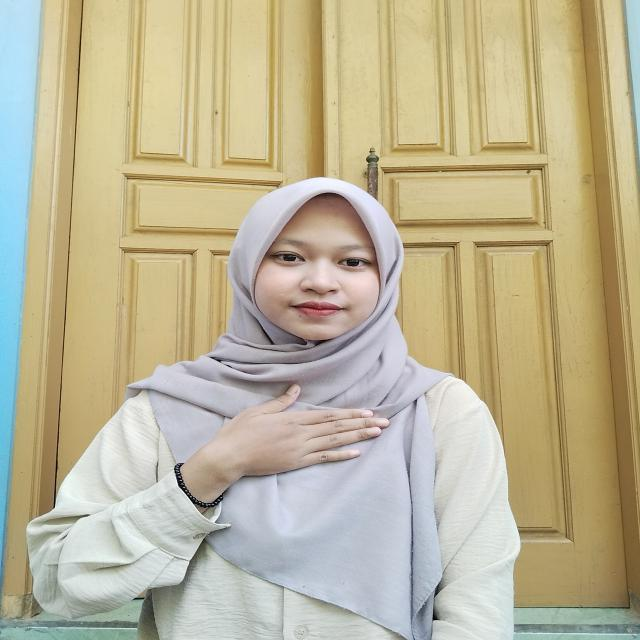tolong: (142, 383, 395, 504)
